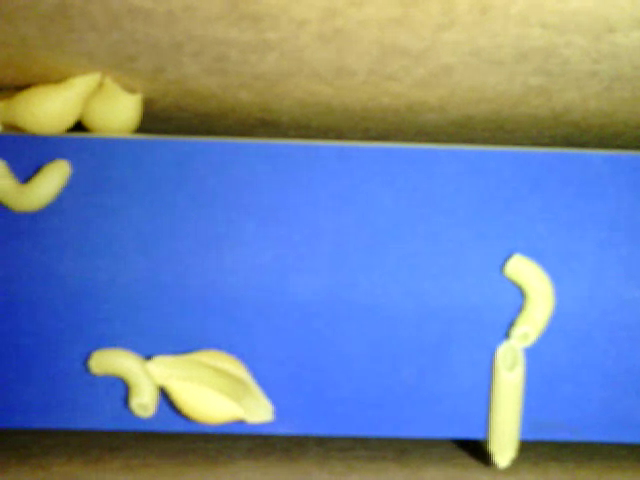elbow: (87, 348, 159, 419), (502, 254, 551, 349), (1, 153, 69, 218)
penne: (480, 340, 524, 468)
shell: (147, 351, 274, 428), (1, 69, 100, 132), (84, 74, 142, 136)
